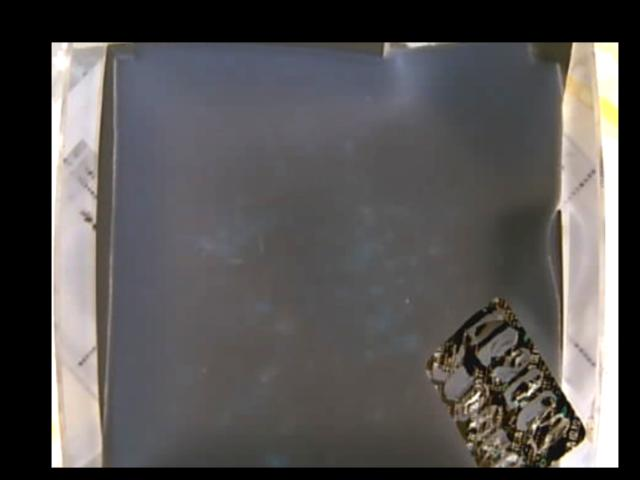Medicine: (424, 298, 587, 467)
